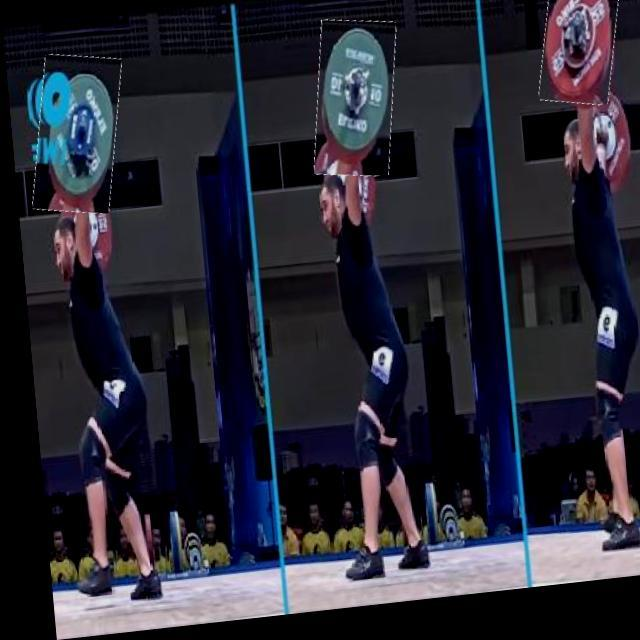barbell: (25, 53, 125, 220), (306, 24, 401, 189), (534, 1, 625, 122)
